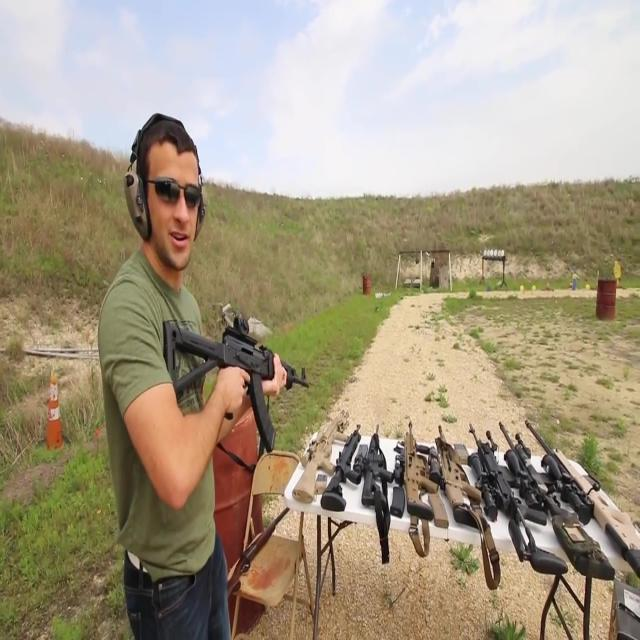Weapon: (270, 375, 640, 607), (145, 291, 312, 452), (203, 496, 299, 612)
